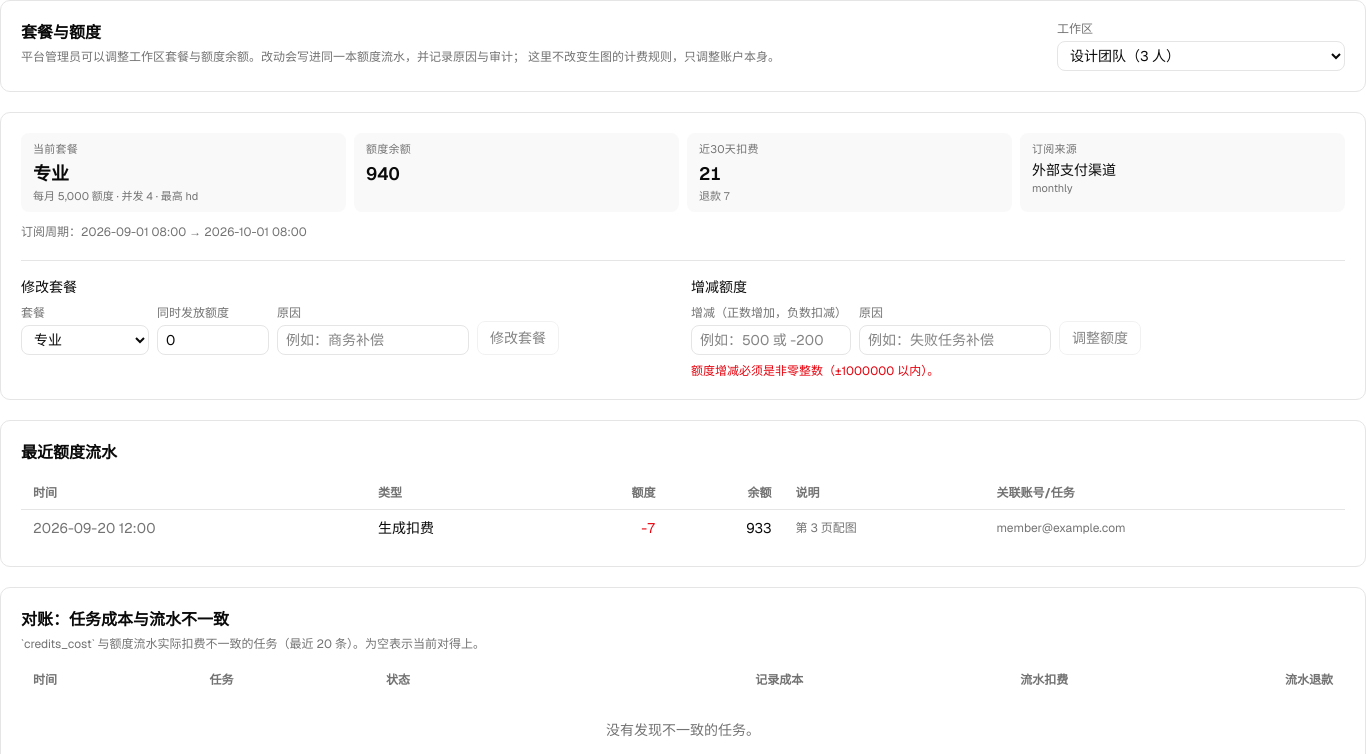
it: admin billing section › shows the resulting balance before confirming a credit adjustment
The width and height of the screenshot is (1366, 754).
Expected: the button "修改套餐" is shown, [477,321,559,355]
Expected: the button "调整额度" is disabled, [1059,321,1141,355]
Type "-200" into the field named "额度增减数值" at (771, 340), box [691,325,851,355]
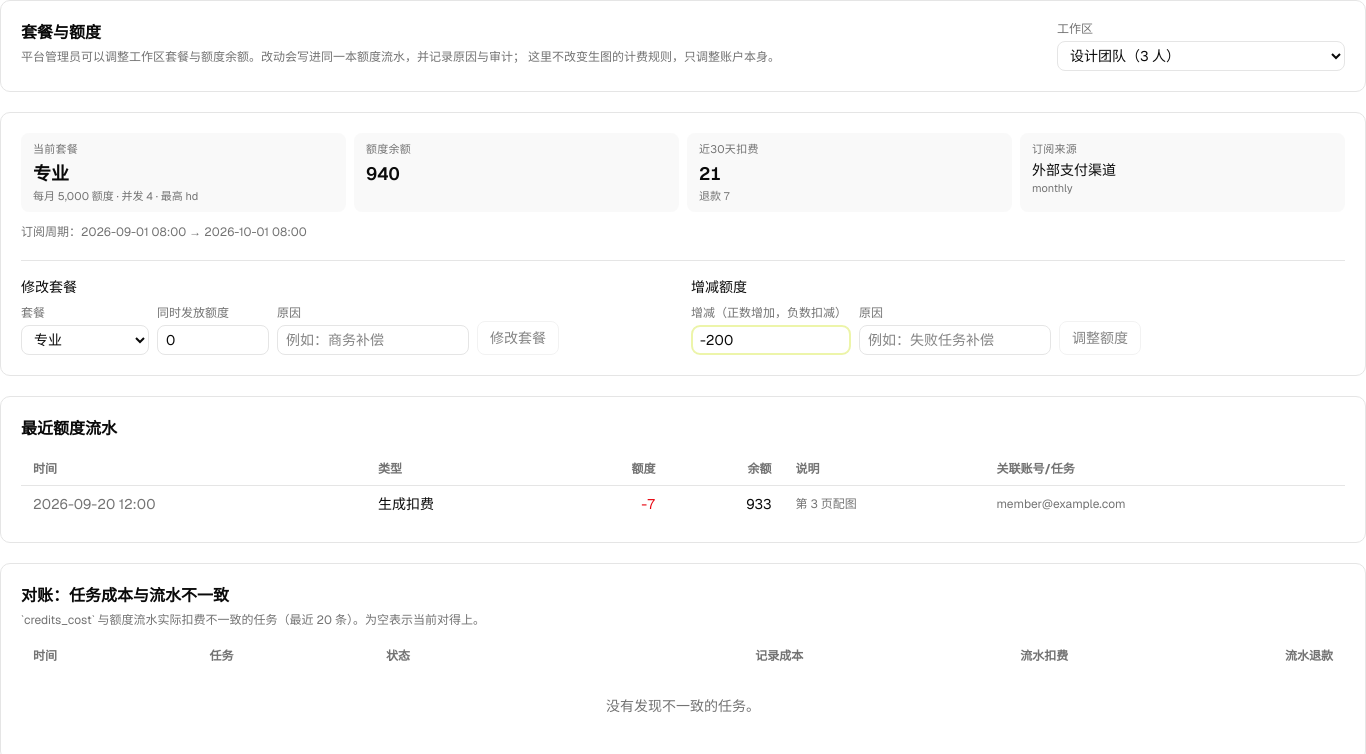
Type "失败任务补偿" into the field named "调整额度原因" at (955, 340), box [859,325,1051,355]
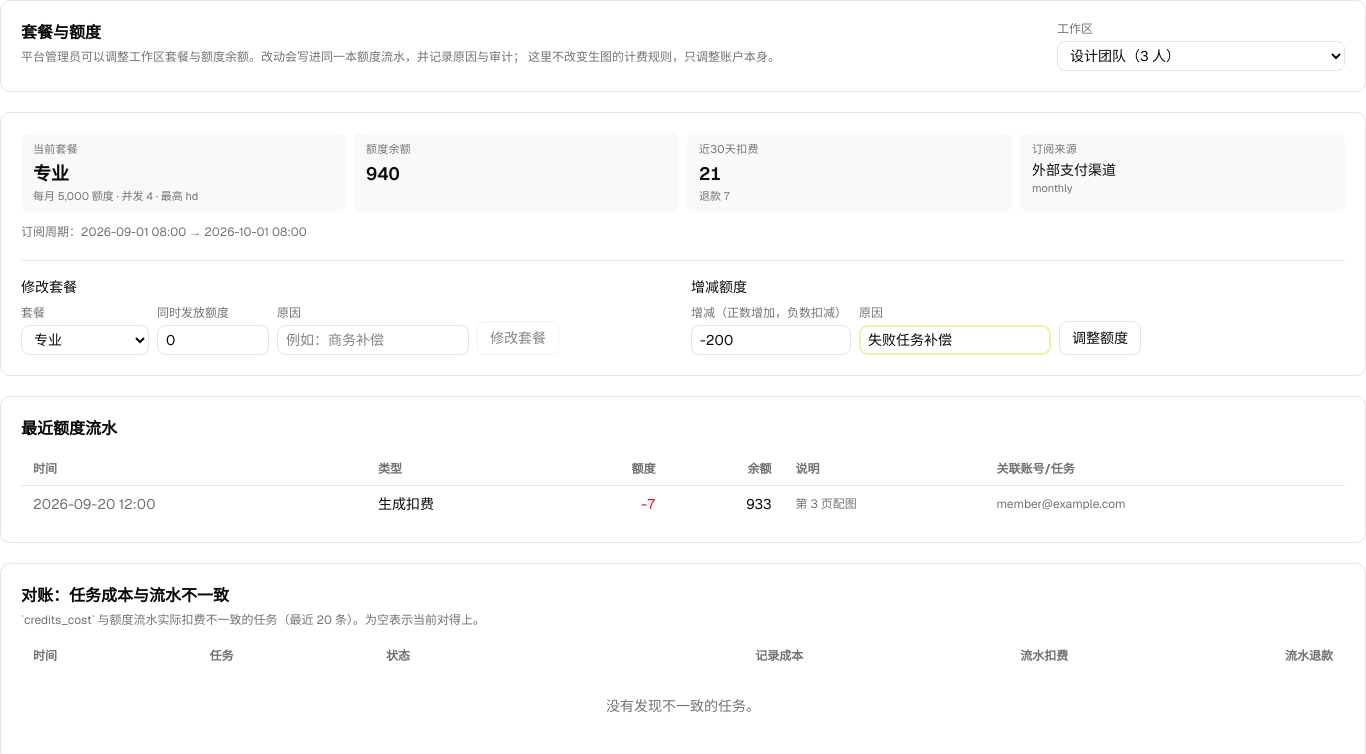
Click the button "调整额度" at (1100, 338), box [1059,321,1141,355]
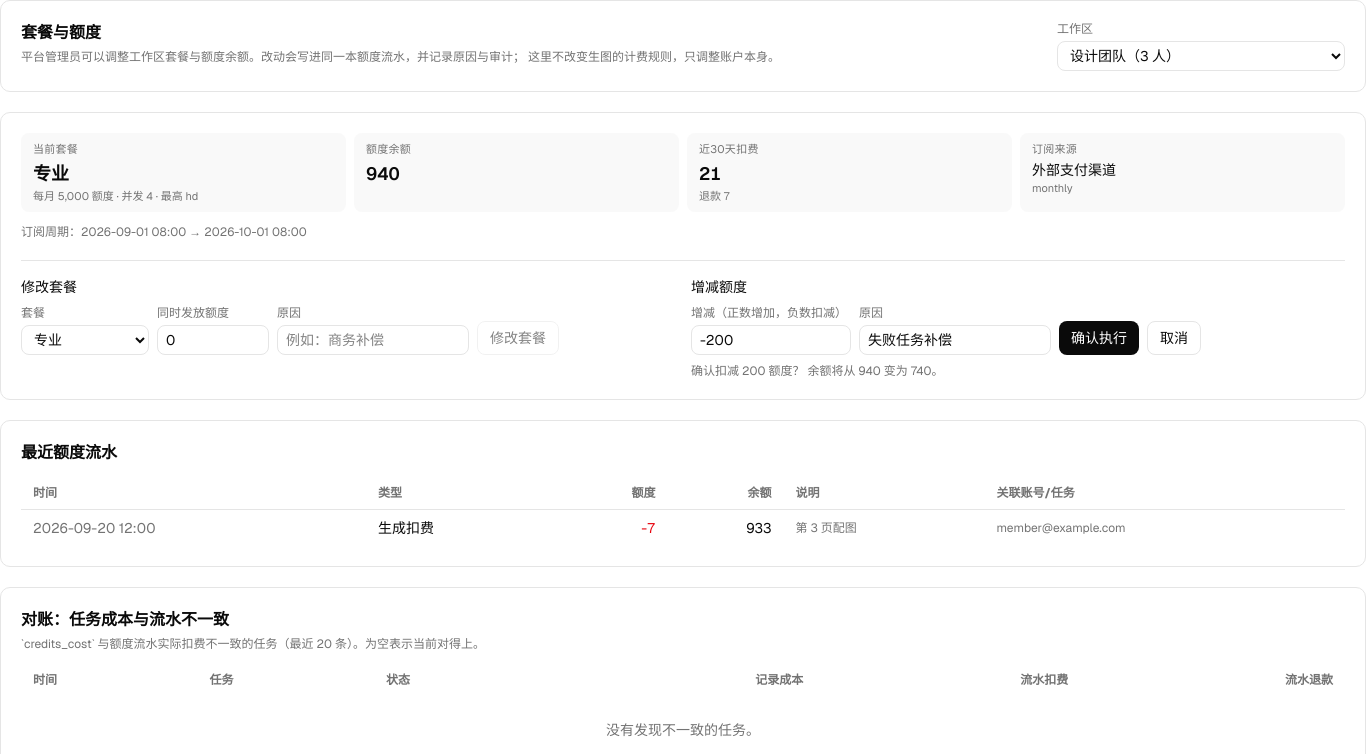
Now the text with test id "admin-billing-adjust-confirm" reads "确认扣减 200 额度？ 余额将从 940 变为 740。", box [691,363,944,379]
Click the button "确认执行" at (1099, 338), box [1059,321,1139,355]
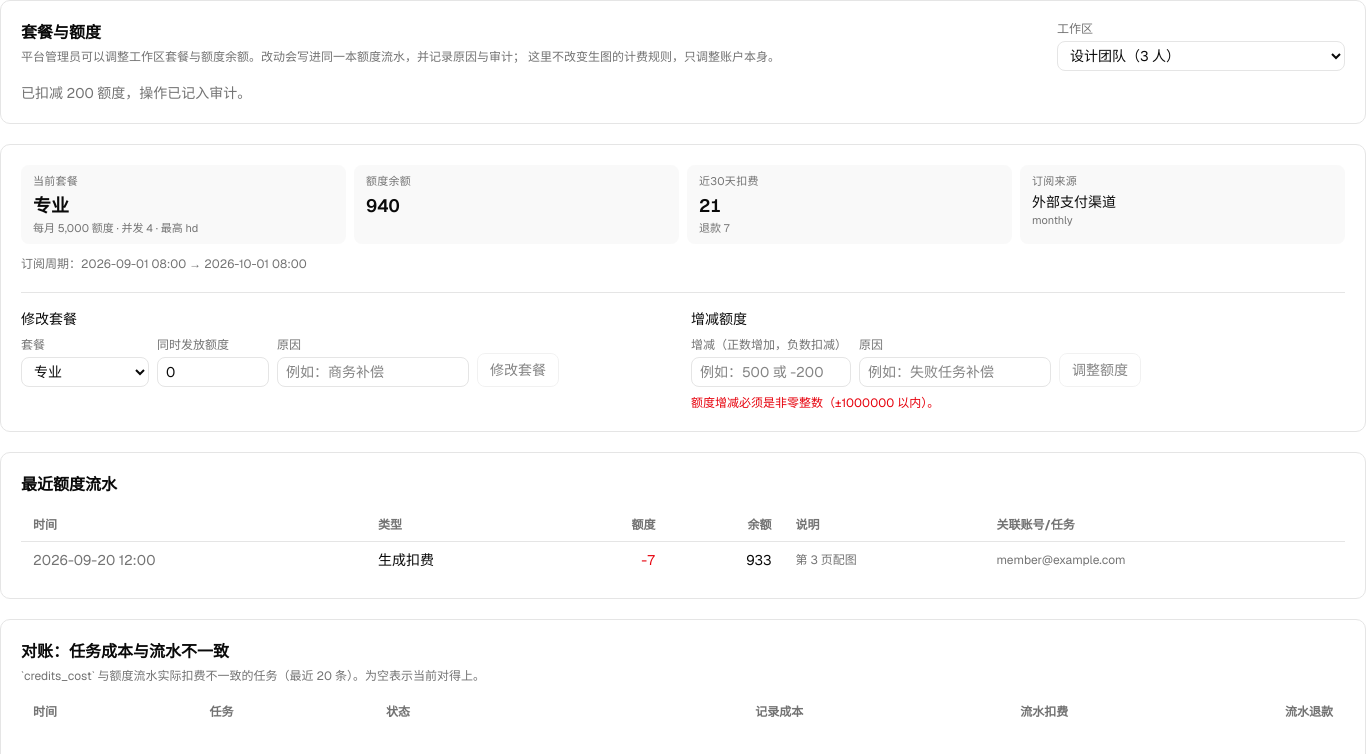
Now the text with test id "admin-billing-feedback" shows "已扣减 200 额度", box [21,84,251,102]
